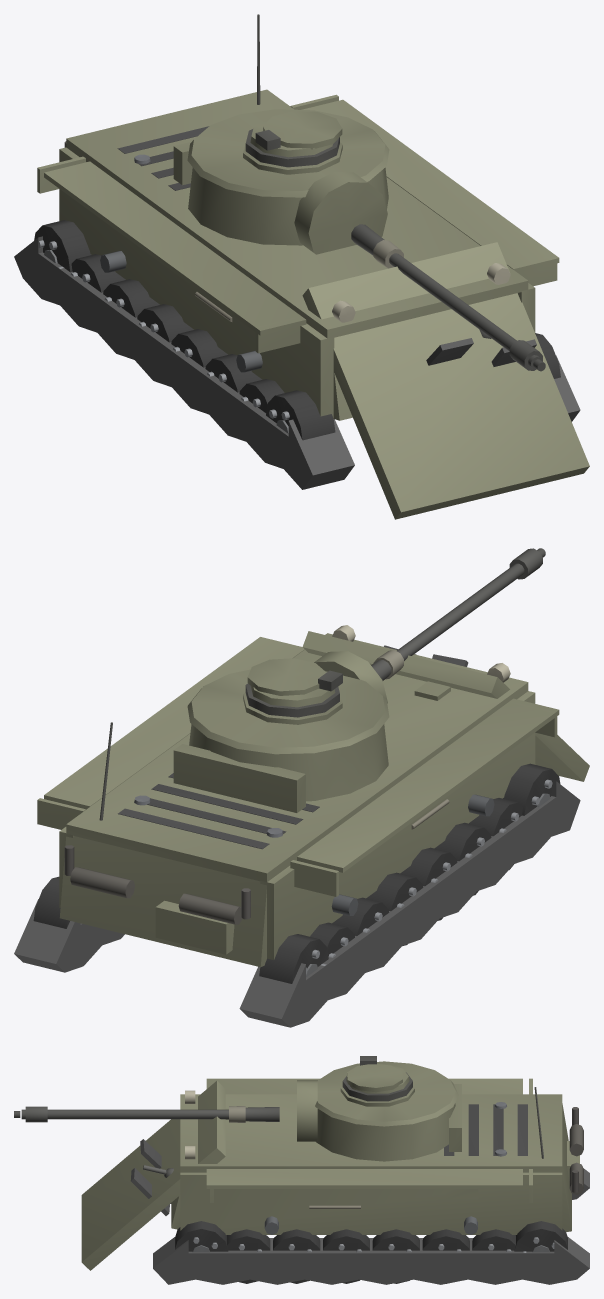
3 renders of one model, top to bottom at view 1: azimuth 30°, elevation 25°; view 2: azimuth 150°, elevation 25°; view 3: azimuth 270°, elevation 25°, orthographic. The views are drawn at different scales.
Parts seen in each view (by area): view 1: glacis, hullSide, hullTop, tracks, turretSide, turretFront, mantlet, turretRoof, barrel, wheel6, wheel7, wheel1 (+6 smaller); view 2: hullSide, hullTop, tracks, hullRear, turretSide, glacis, turretFront, turretRoof, turretRear, barrel, wheel7, wheel6 (+8 smaller); view 3: hullSide, hullTop, tracks, glacis, turretSide, turretFront, barrel, turretRoof, hullRear, wheel14, wheel15, mantlet (+7 smaller).
Part boxes in pixels (x1,y1,x2,y2): glacis: (302, 242, 589, 519); hullSide: (37, 94, 559, 418); hullTop: (66, 89, 528, 338); tracks: (14, 236, 580, 489); turretSide: (187, 109, 389, 197); turretFront: (188, 167, 388, 245); mantlet: (294, 171, 387, 254); turretRoof: (243, 111, 342, 174); barrel: (351, 224, 545, 371); wheel6: (266, 390, 335, 440); wheel7: (34, 220, 91, 272); wheel1: (103, 279, 159, 317); hullSide: (37, 625, 559, 959); hullTop: (66, 633, 528, 881); tracks: (14, 780, 580, 1027); hullRear: (59, 722, 268, 967); turretSide: (187, 669, 389, 754); glacis: (302, 631, 589, 781); turretFront: (189, 724, 388, 801); turretRoof: (243, 658, 342, 724); turretRear: (173, 744, 305, 812); barrel: (371, 548, 545, 680); wheel7: (259, 934, 328, 983); wheel6: (503, 763, 560, 815); hullSide: (180, 1078, 562, 1234); hullTop: (180, 1094, 562, 1172); tracks: (153, 1168, 589, 1284); glacis: (81, 1081, 228, 1270); turretSide: (315, 1061, 458, 1126); turretFront: (316, 1103, 455, 1161); barrel: (14, 1106, 279, 1122); turretRoof: (340, 1056, 414, 1106); hullRear: (534, 1087, 583, 1231); wheel14: (175, 1221, 228, 1252); wheel15: (514, 1221, 567, 1252); mantlet: (297, 1080, 317, 1141).
Bounding box in the file's own units: 3.9 × 3.03 × 8.9.
